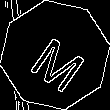M_NE: (22, 21, 88, 89)
